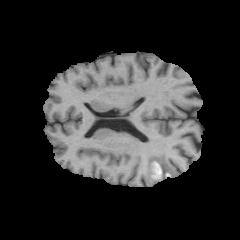glioma: (145, 152, 179, 185)
